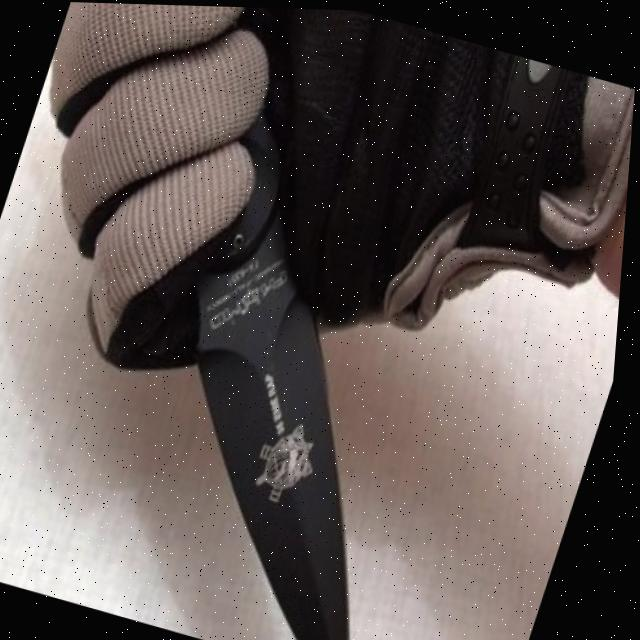knife: (95, 99, 530, 640)
